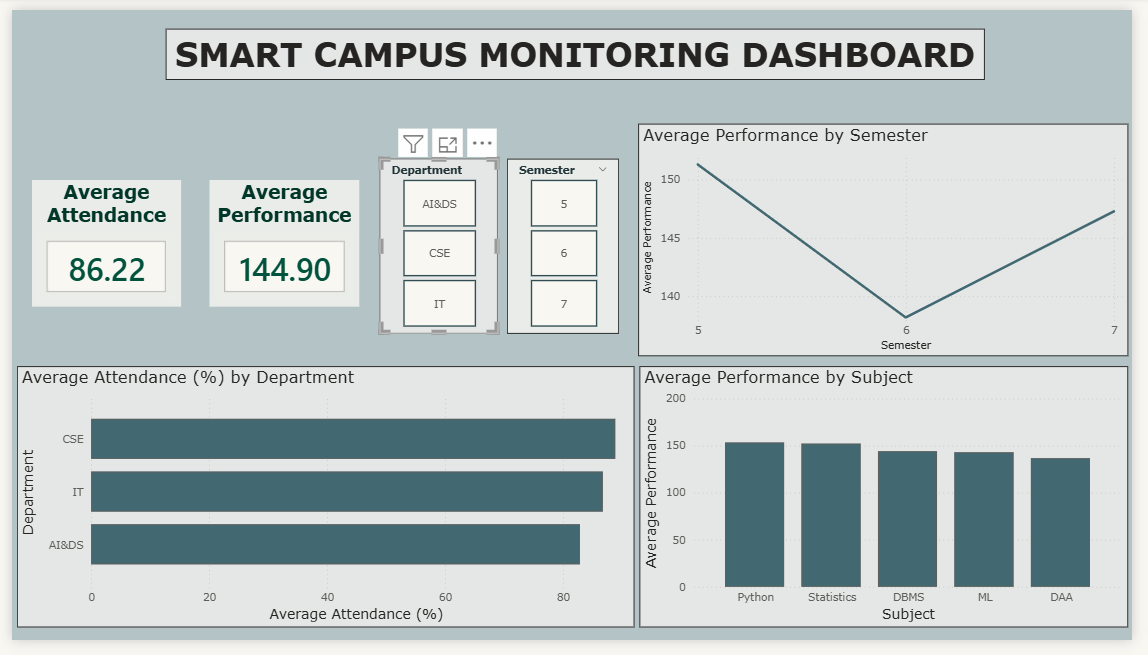

This screenshot's page, from the dashboard's own definition file:
{"tool":"powerbi","page":{"name":"Page 1","canvas":[1280,720],"ordinal":0},"visuals":[{"type":"cardVisual","title":"Average Attendance","fields":{"Data":["5 student_performance.Average Attendance (%)"]},"box":[23.2,194.3,170,145],"z":0},{"type":"clusteredBarChart","fields":{"Category":["5 student_performance.Department","5 student_performance.Subject","5 student_performance.Student_ID"],"Y":["5 student_performance.Average Attendance (%)"]},"box":[5.7,407.1,705.7,298.6],"z":1000},{"type":"clusteredColumnChart","fields":{"Category":["5 student_performance.Subject"],"Y":["5 student_performance.Average Performance"]},"box":[717.1,407.1,558.6,298.6],"z":2000},{"type":"lineChart","fields":{"Category":["5 student_performance.Semester"],"Y":["5 student_performance.Average Performance"]},"box":[715.7,130.6,560,265.7],"z":3000},{"type":"slicer","fields":{"Values":["5 student_performance.Department"]},"box":[420,169.4,135,200],"z":4000},{"type":"textbox","box":[175.7,21.4,935.7,58.6],"z":5000},{"type":"cardVisual","title":"Average Performance","fields":{"Data":["5 student_performance.Average Performance"]},"box":[225.7,194.3,171.2,145],"z":6000},{"type":"slicer","fields":{"Values":["5 student_performance.Semester"]},"box":[565.7,169.6,127.8,200],"z":7000}]}

Visuals, with their boxes in screenshot pixels (x1, y1, x2, y2), scaled from the page's 1280x720 canvas onto the 1148x655 screenshot:
"Average Attendance" cardVisual: left=21, top=177, right=173, bottom=309
clusteredBarChart - 5 student_performance.Department x 5 student_performance.Subject: left=5, top=370, right=638, bottom=642
clusteredColumnChart - 5 student_performance.Subject x 5 student_performance.Average Performance: left=643, top=370, right=1144, bottom=642
lineChart - 5 student_performance.Semester x 5 student_performance.Average Performance: left=642, top=119, right=1144, bottom=361
slicer - 5 student_performance.Department: left=377, top=154, right=498, bottom=336
textbox: left=158, top=19, right=997, bottom=73
"Average Performance" cardVisual: left=202, top=177, right=356, bottom=309
slicer - 5 student_performance.Semester: left=507, top=154, right=622, bottom=336
